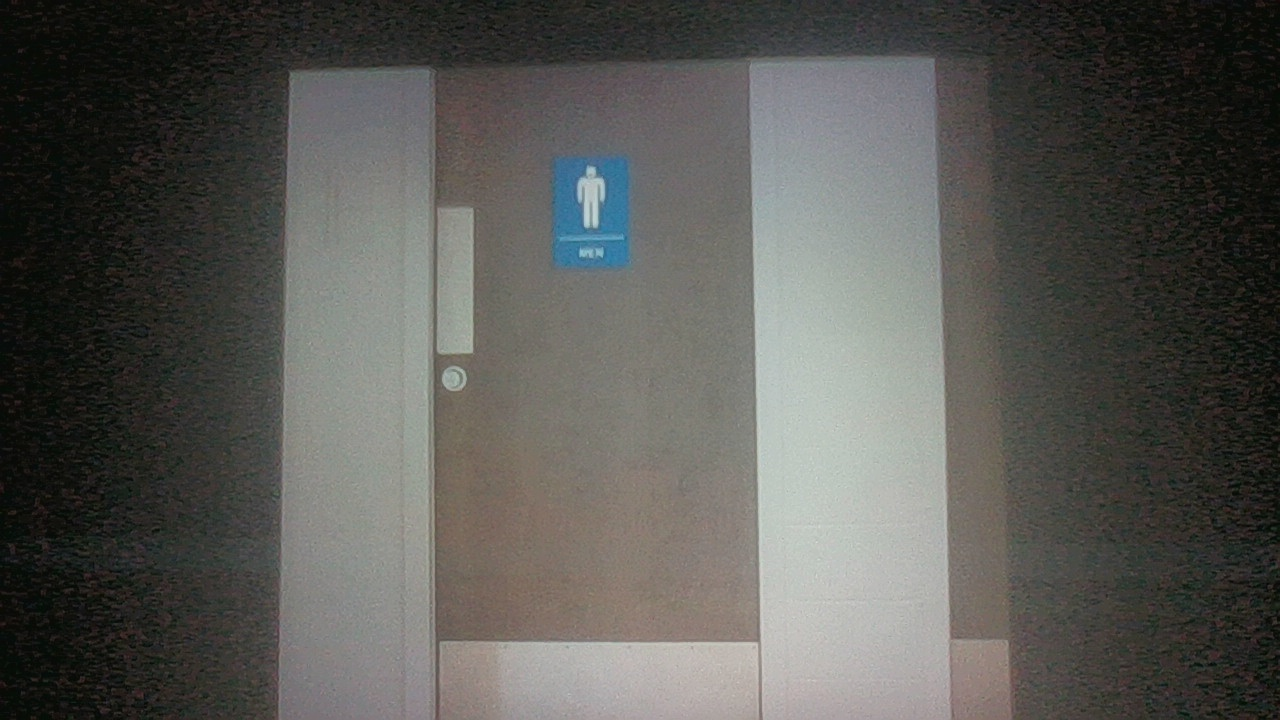mens_restroom: (538, 143, 640, 283)
